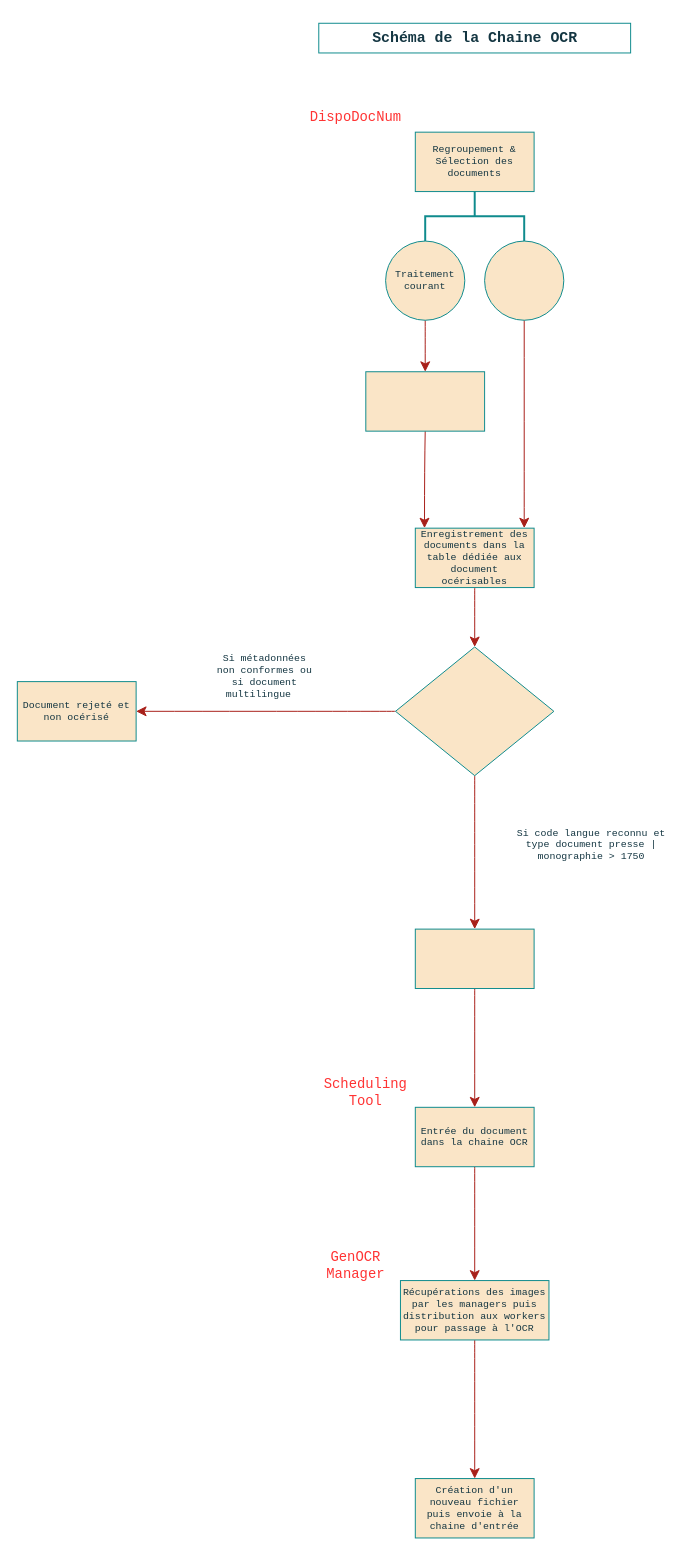
The diagram is 698 pixels wide and 1555 high, and some of its shapes have lost their labels. The shapes that lost their labels are listed below. From the top down, each one's centre as x and y in pixels, then its label:
At (524,280): "Traitement rétrospectif".
At (425,401): "délai de 100 jours entre numérisation et océrisation".
At (474,711): "Vérification des métadonnées code langue et type document via l'OAI".
At (474,958): "Document en demande d'océrisation".
